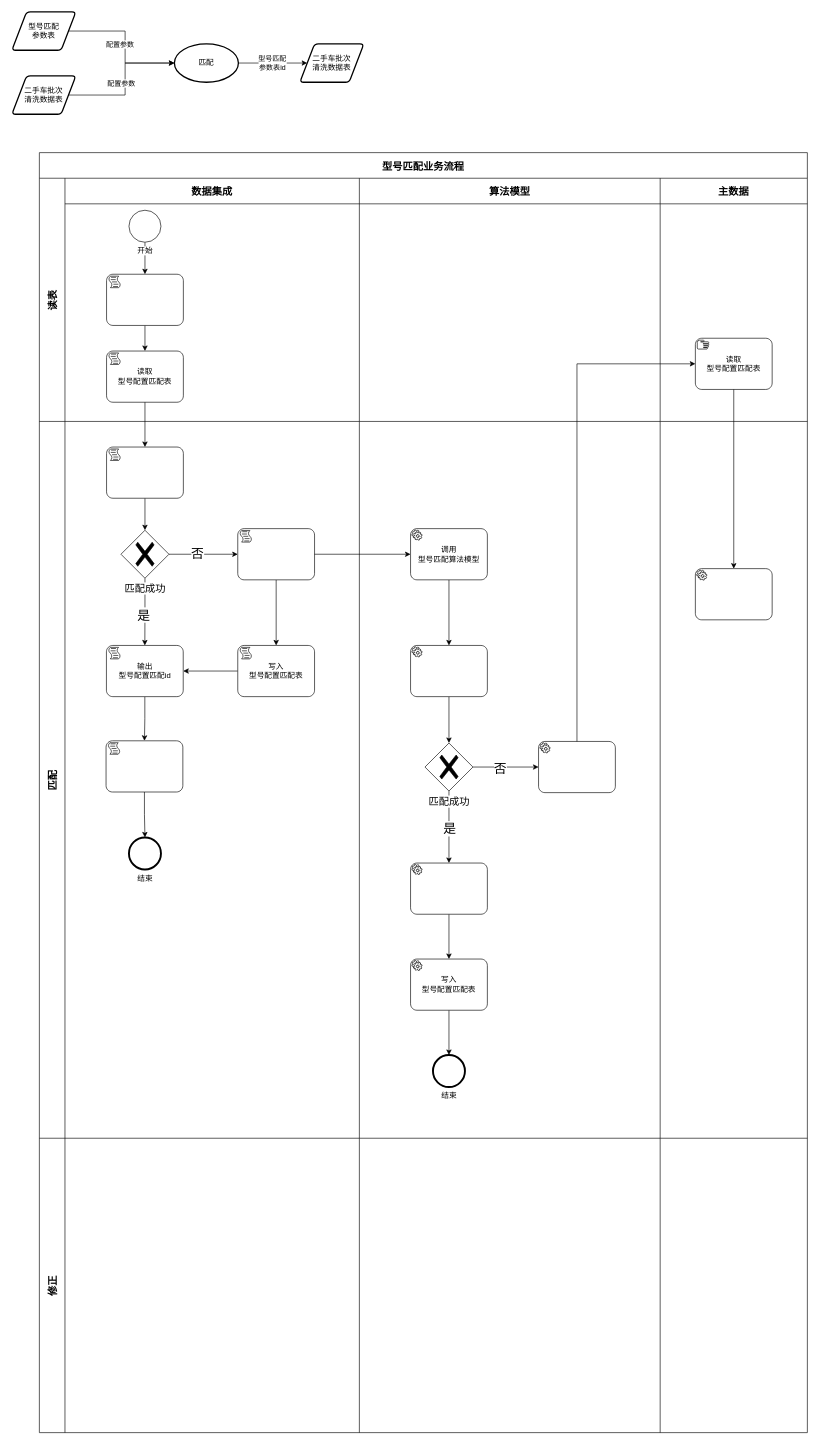
Image size: 819x1444. Some labels were removed from this diagram. Here are the shapes that lost their labels. From the top down, the box of each, then its label:
(106, 274, 183, 325): 读取 批次清洗数据表
(106, 446, 183, 498): 匹配型号配置
(237, 528, 315, 580): 生成 '待匹配'型号配置
(695, 568, 772, 620): 标记 型号配置匹配表
(410, 645, 487, 697): 匹配型号配置 主数据
(105, 740, 183, 792): 写入 批次清洗数据表
(538, 741, 615, 793): 更改 型号配置匹配表
(410, 862, 487, 914): 读取 主数据型号id
